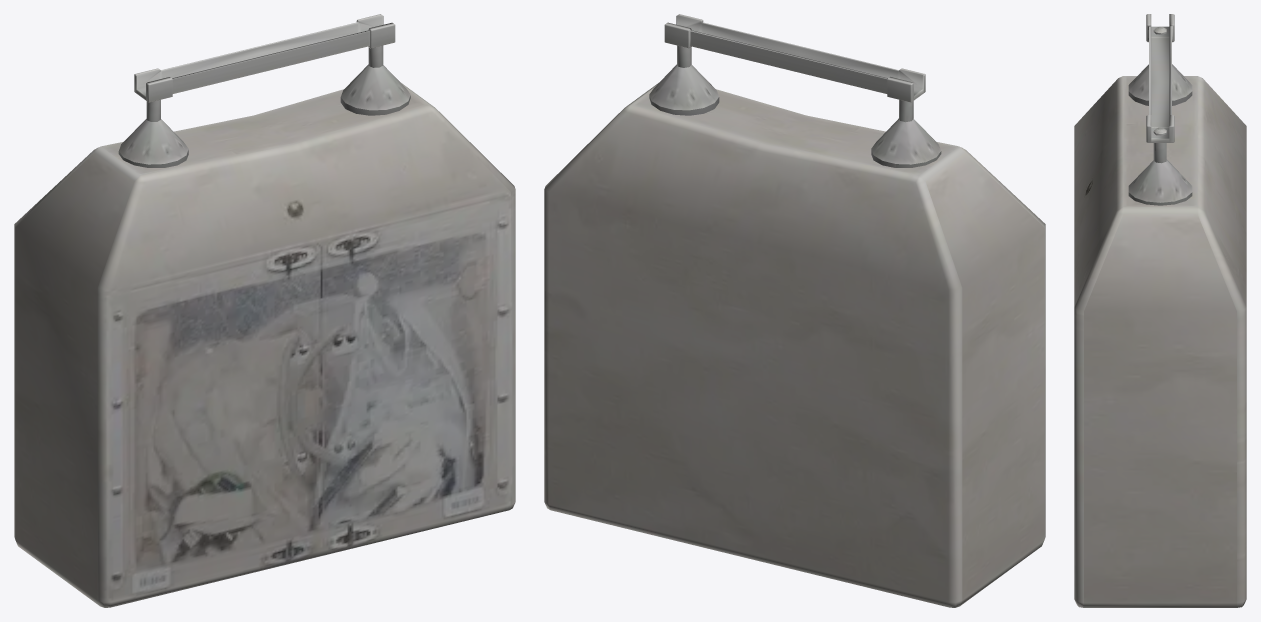
File: crew-lock-bag.glb
3 views of the same model, side by side, from view 1: azimuth 30°, elevation 25°; view 2: azimuth 150°, elevation 25°; view 3: azimuth 270°, elevation 25° (orthographic). The views are drawn at different scales.
Visible parts, largest first — view 1: crewlockba; view 2: crewlockba; view 3: crewlockba.
Boxes of the visible parts, x1,y1,x2,y2 form: crewlockba: [14, 14, 515, 607]; crewlockba: [544, 14, 1045, 607]; crewlockba: [1074, 14, 1246, 607].
Size of the model in its own units: 0.4997 by 0.55 by 0.1924.
1 material, 1 textured.
